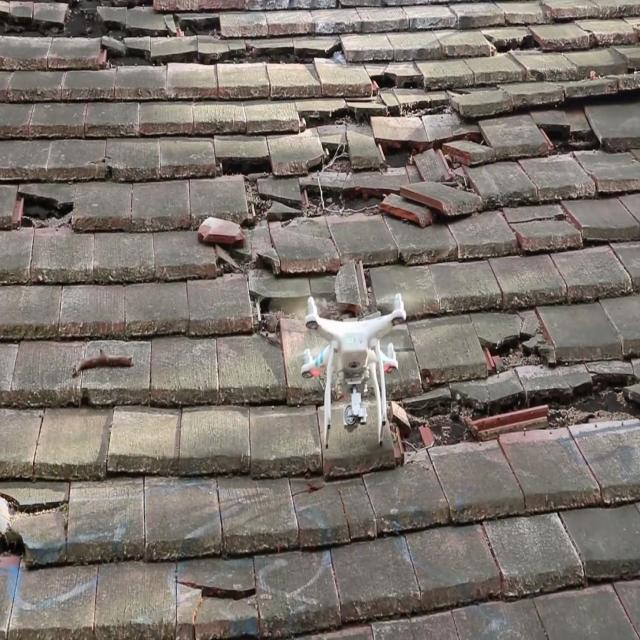drone: (296, 286, 409, 451)
